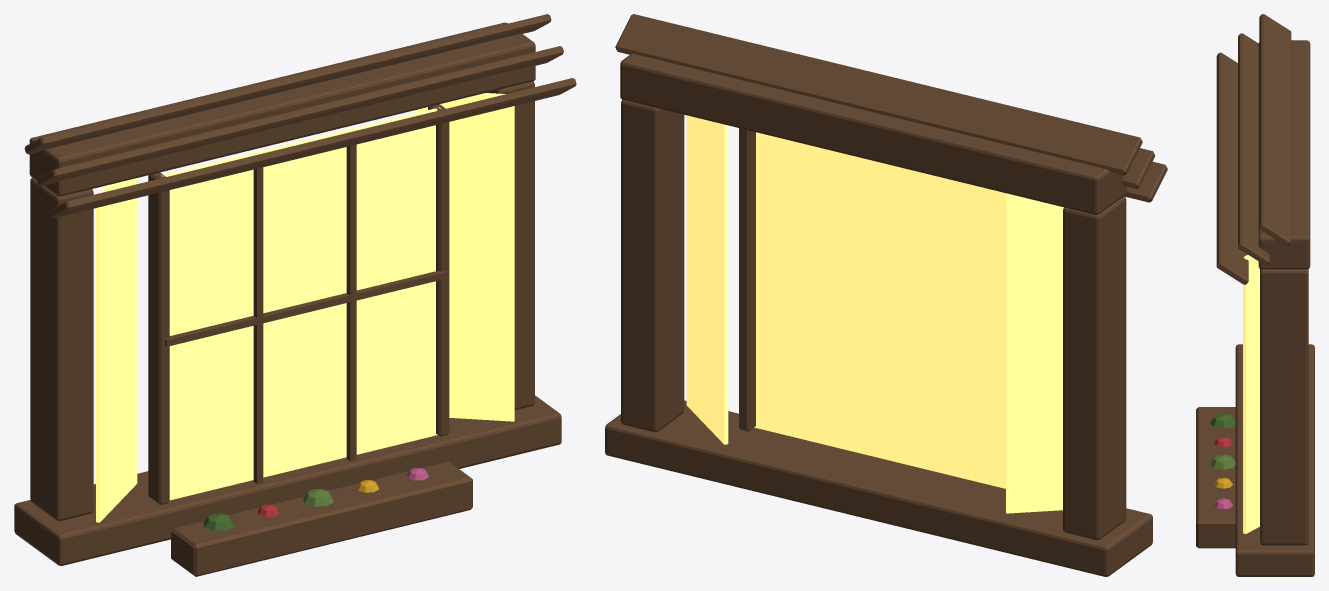
The model's file is SM_Window_TavernBay_02.fbx.
3 views of the same model, side by side, from view 1: azimuth 30°, elevation 25°; view 2: azimuth 150°, elevation 25°; view 3: azimuth 270°, elevation 25° (orthographic). The views are drawn at different scales.
Visible parts, largest first — view 1: SM_Window_TavernBay_02_GlassCenter, SM_Window_TavernBay_02_Lintel, SM_Window_TavernBay_02_GlassSideR, SM_Window_TavernBay_02_Sill, SM_Window_TavernBay_02_Frame, SM_Window_TavernBay_02_FlowerBox, SM_Window_TavernBay_02_GlassSideL, SM_Window_TavernBay_02_Roof2, SM_Window_TavernBay_02_Roof0, SM_Window_TavernBay_02_Roof1, SM_Window_TavernBay_02_BayPostL, SM_Window_TavernBay_02_JambR (+4 smaller); view 2: SM_Window_TavernBay_02_GlassCenter, SM_Window_TavernBay_02_Sill, SM_Window_TavernBay_02_Lintel, SM_Window_TavernBay_02_Frame, SM_Window_TavernBay_02_Roof0, SM_Window_TavernBay_02_JambR, SM_Window_TavernBay_02_GlassSideL, SM_Window_TavernBay_02_GlassSideR, SM_Window_TavernBay_02_BayPostR, SM_Window_TavernBay_02_Roof2, SM_Window_TavernBay_02_Roof1; view 3: SM_Window_TavernBay_02_JambR, SM_Window_TavernBay_02_Roof0, SM_Window_TavernBay_02_Lintel, SM_Window_TavernBay_02_Sill, SM_Window_TavernBay_02_Roof2, SM_Window_TavernBay_02_Roof1, SM_Window_TavernBay_02_FlowerBox, SM_Window_TavernBay_02_GlassSideR, SM_Window_TavernBay_02_Plant0, SM_Window_TavernBay_02_Plant2.
Boxes of the visible parts, x1,y1,x2,y2 form: SM_Window_TavernBay_02_GlassCenter: (161,107,440,500); SM_Window_TavernBay_02_Lintel: (29,22,535,196); SM_Window_TavernBay_02_GlassSideR: (414,93,514,421); SM_Window_TavernBay_02_Sill: (14,395,561,565); SM_Window_TavernBay_02_Frame: (30,178,93,521); SM_Window_TavernBay_02_FlowerBox: (171,461,472,576); SM_Window_TavernBay_02_GlassSideL: (96,178,137,522); SM_Window_TavernBay_02_Roof2: (49,78,576,218); SM_Window_TavernBay_02_Roof0: (24,14,551,154); SM_Window_TavernBay_02_Roof1: (37,46,563,186); SM_Window_TavernBay_02_BayPostL: (148,172,169,504); SM_Window_TavernBay_02_JambR: (486,81,534,409); SM_Window_TavernBay_02_GlassCenter: (754,132,1005,488); SM_Window_TavernBay_02_Sill: (605,400,1152,576); SM_Window_TavernBay_02_Lintel: (620,53,1126,214); SM_Window_TavernBay_02_Frame: (1063,196,1126,539); SM_Window_TavernBay_02_Roof0: (615,14,1142,175); SM_Window_TavernBay_02_JambR: (621,99,684,432); SM_Window_TavernBay_02_GlassSideL: (1006,193,1063,513); SM_Window_TavernBay_02_GlassSideR: (686,115,728,444); SM_Window_TavernBay_02_BayPostR: (739,128,755,431); SM_Window_TavernBay_02_Roof2: (1124,161,1167,202); SM_Window_TavernBay_02_Roof1: (1121,148,1155,188); SM_Window_TavernBay_02_JambR: (1260,269,1308,545); SM_Window_TavernBay_02_Roof0: (1259,14,1291,246); SM_Window_TavernBay_02_Lintel: (1258,40,1310,269); SM_Window_TavernBay_02_Sill: (1235,344,1314,576); SM_Window_TavernBay_02_Roof2: (1216,52,1248,284); SM_Window_TavernBay_02_Roof1: (1238,33,1269,265); SM_Window_TavernBay_02_FlowerBox: (1196,407,1235,548); SM_Window_TavernBay_02_GlassSideR: (1243,255,1259,533); SM_Window_TavernBay_02_Plant0: (1210,413,1235,428); SM_Window_TavernBay_02_Plant2: (1210,454,1235,469).
Size of the model in its own units: 1.64 by 1.35 by 0.39.
